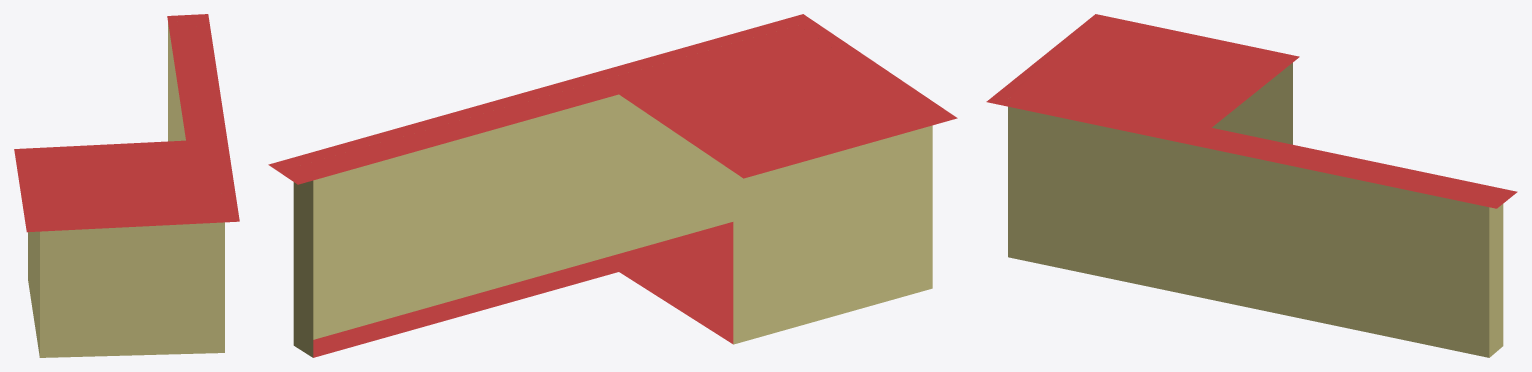
3 views of the same model, side by side, from view 1: azimuth 30°, elevation 25°; view 2: azimuth 150°, elevation 25°; view 3: azimuth 270°, elevation 25° (orthographic). The views are drawn at different scales.
Bounding box in the file's own units: 14.62 × 16.39 × 5.38.
